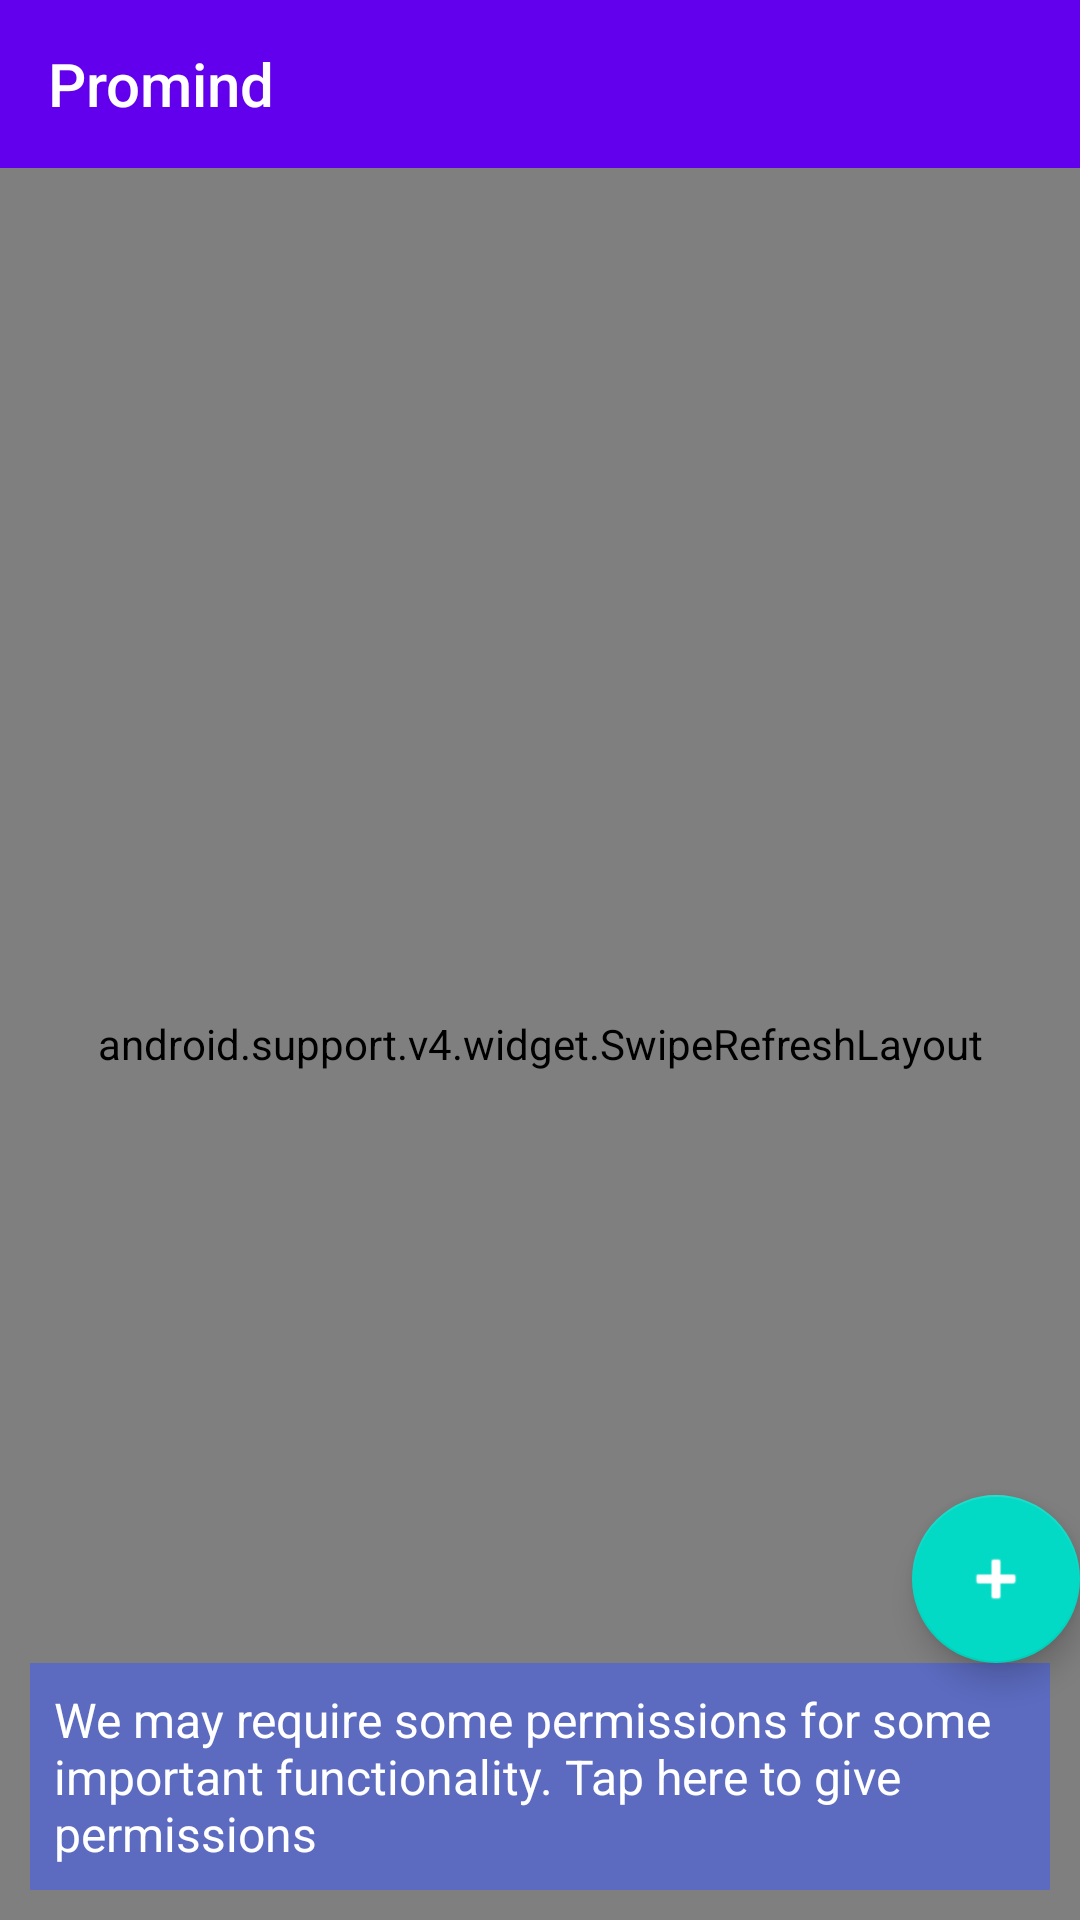

Named icons in this screenshot (1080 × 1920) and their centers, (x,y):
add: (996,1579)
